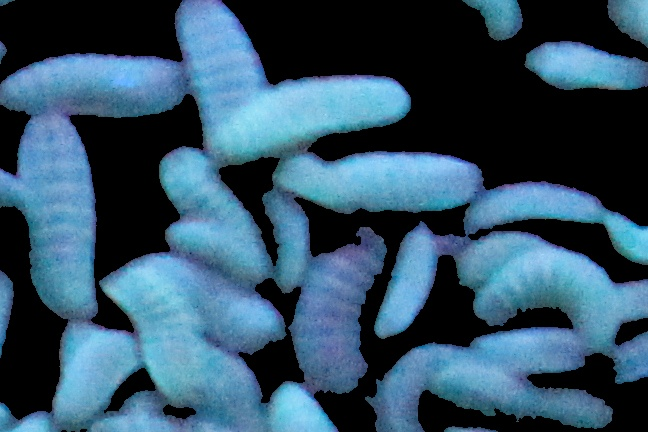larvae: (115, 262, 279, 427), (11, 110, 110, 329), (169, 1, 281, 164), (152, 144, 271, 283), (141, 248, 290, 359), (289, 236, 389, 401), (220, 75, 410, 158), (477, 248, 623, 350), (1, 50, 191, 120), (442, 368, 616, 427), (301, 158, 496, 210), (44, 321, 135, 432), (369, 342, 476, 432), (519, 35, 648, 99), (454, 229, 571, 297), (463, 184, 611, 234), (160, 215, 272, 281), (375, 222, 439, 334), (270, 150, 368, 222), (466, 327, 598, 380), (259, 194, 316, 301), (265, 378, 343, 432)
